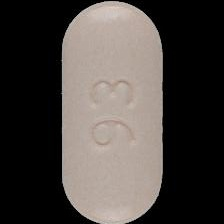0615-6510: (0, 0, 224, 224)
